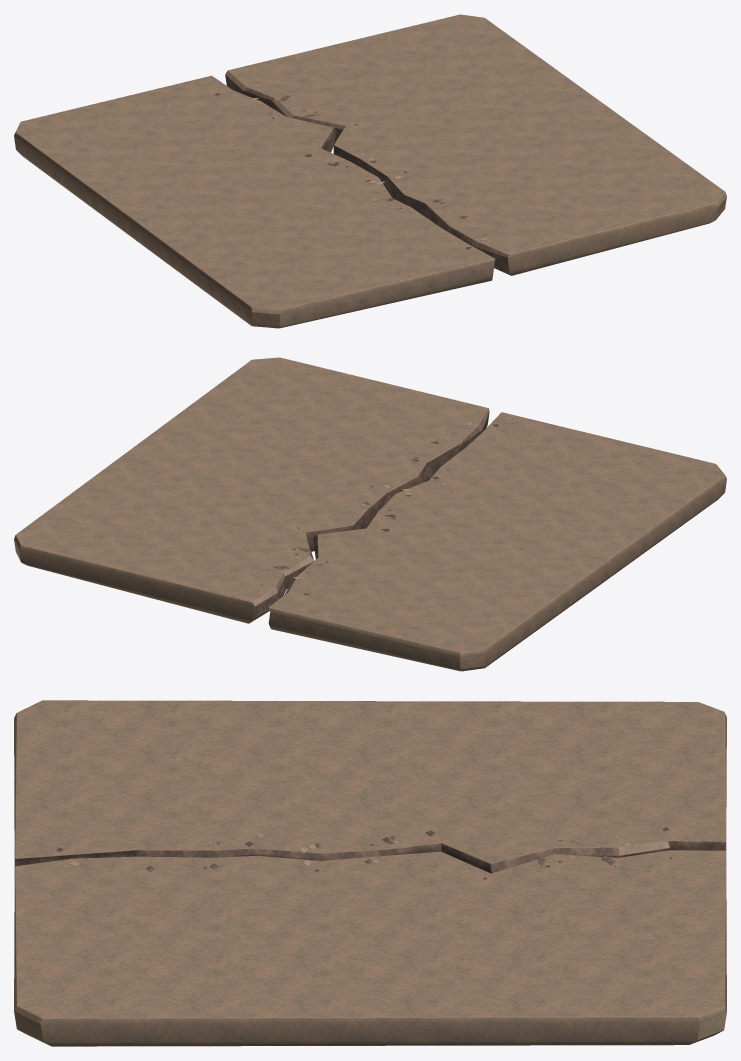
The model's file is CrackedSlabA.glb.
The picture shows the model from 3 angles, top to bottom: view 1: azimuth 30°, elevation 25°; view 2: azimuth 150°, elevation 25°; view 3: azimuth 270°, elevation 25°; orthographic projection. The views are drawn at different scales.
Parts seen in each view (by area): view 1: Sintered_regolith_warm_panel.001, Sintered_regolith_warm_panel; view 2: Sintered_regolith_warm_panel.001, Sintered_regolith_warm_panel; view 3: Sintered_regolith_warm_panel.001, Sintered_regolith_warm_panel.
Boxes of the visible parts, box(x1,y1,x2,y2) form: Sintered_regolith_warm_panel.001: box(225, 14, 726, 275); Sintered_regolith_warm_panel: box(14, 75, 495, 328); Sintered_regolith_warm_panel.001: box(14, 357, 489, 623); Sintered_regolith_warm_panel: box(268, 412, 726, 671); Sintered_regolith_warm_panel.001: box(14, 850, 726, 1046); Sintered_regolith_warm_panel: box(14, 700, 726, 873).
Bounding box in the file's own units: 2.51 × 0.1177 × 2.37.
3 materials, 3 textured.
